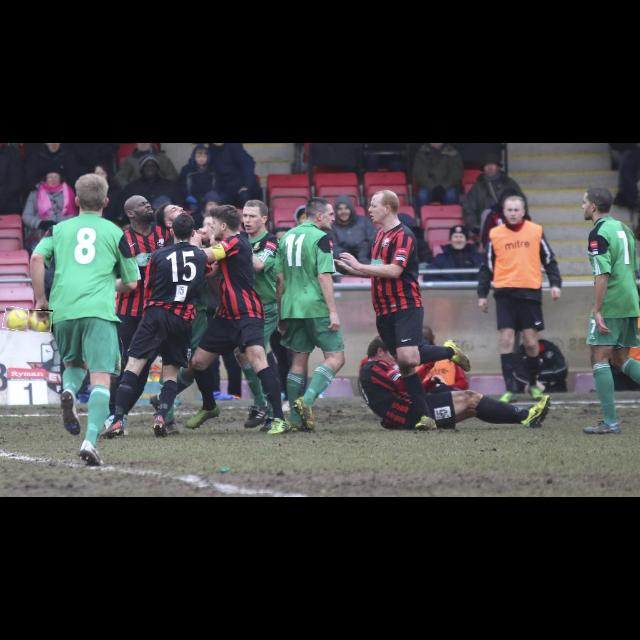Football: (3, 307, 31, 331), (27, 310, 53, 332)
